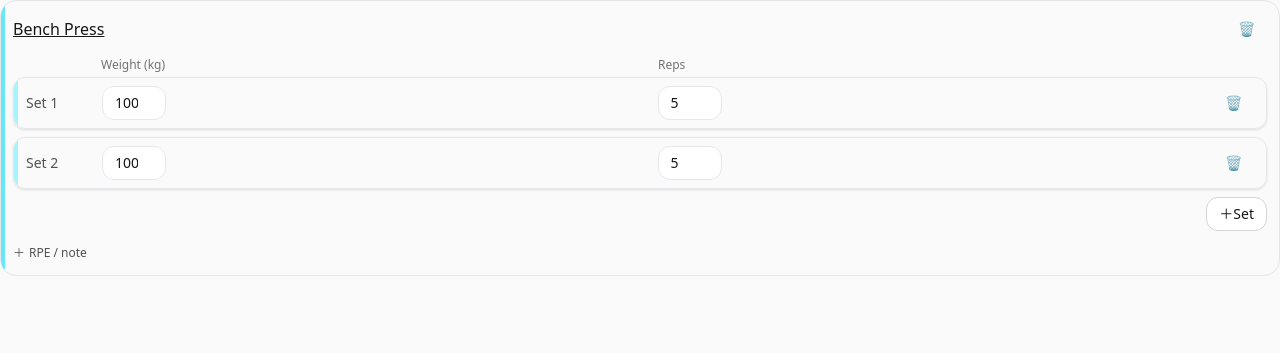
Test: WorkoutExerciseEditor › appends a new default set via the add button
Click the button "＋ Set" at {"x": 1237, "y": 214}, box [1206, 197, 1267, 231]
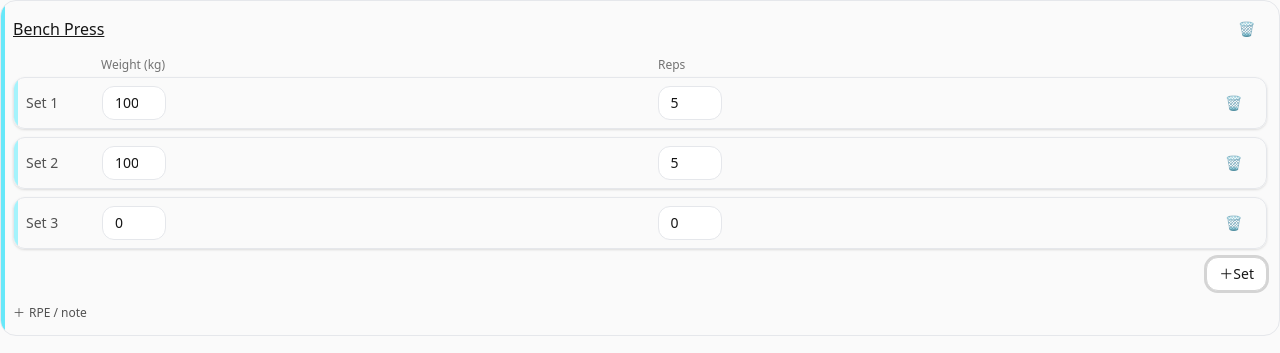
Expected: the text "Set 3" is shown, [26, 213, 58, 232]
